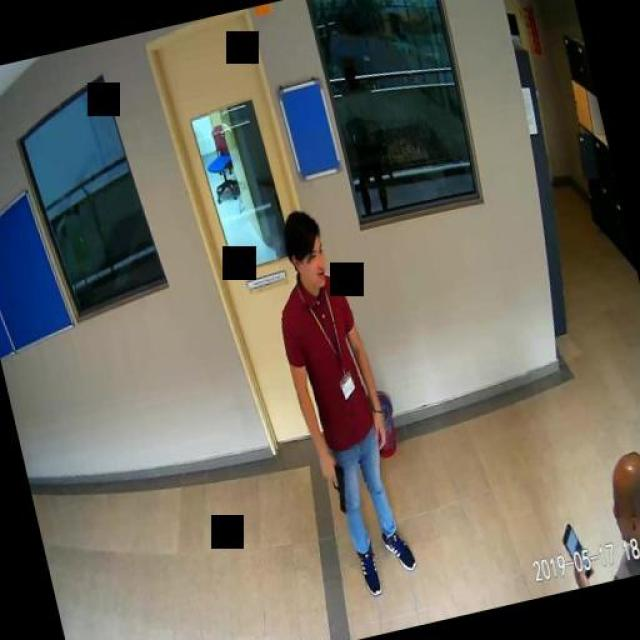gun: (321, 461, 351, 515)
